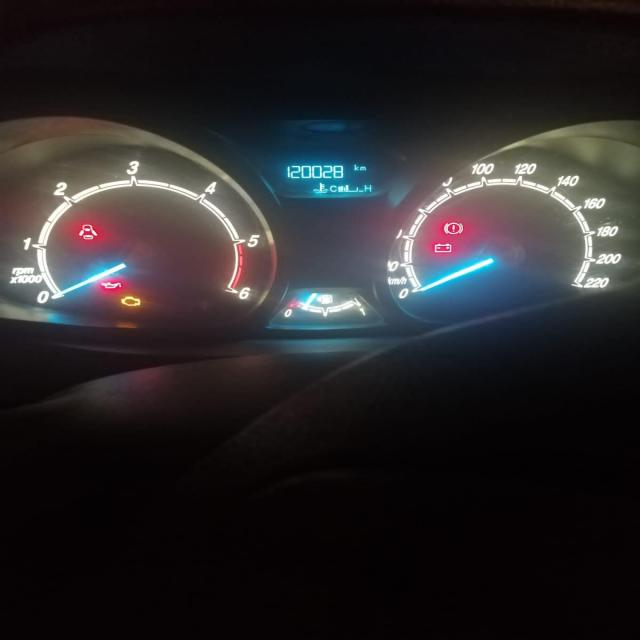odometer: (281, 159, 381, 193)
